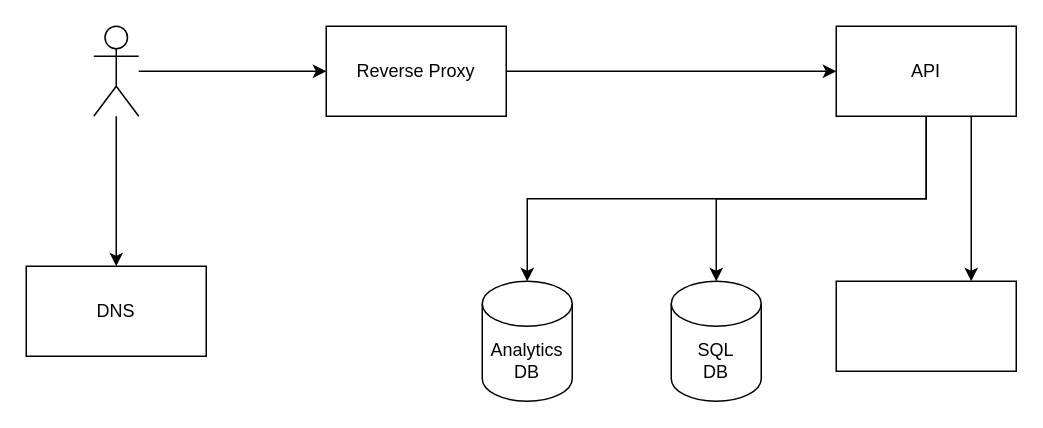
Some shapes in this 1043 by 428 pixel diagram are drawn without their labels. Each missing label, with the centre of its shape:
"Cache" belongs at [925,325].
"User" belongs at [115,70].
